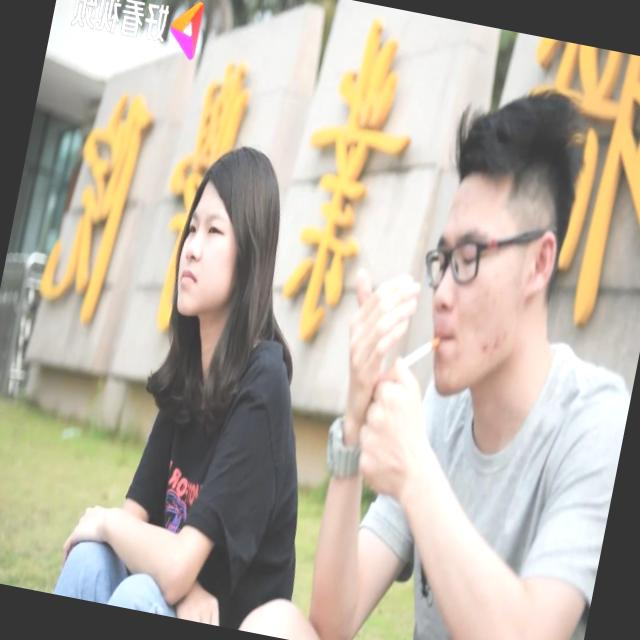cigarette: (382, 316, 448, 394)
